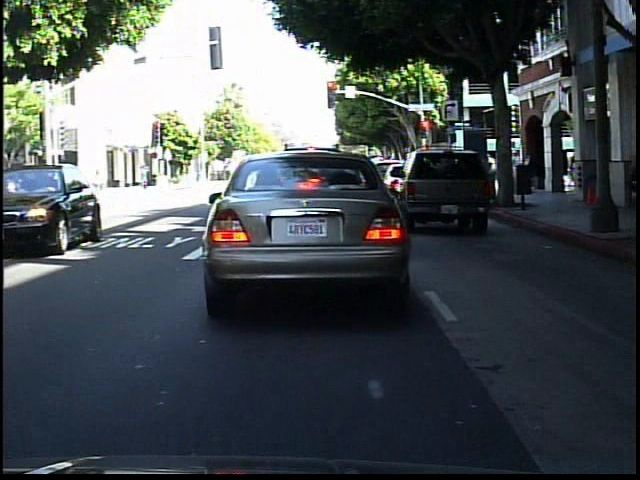person: (590, 144, 612, 217), (619, 141, 639, 220), (64, 161, 80, 200), (35, 168, 50, 206), (52, 163, 65, 206), (138, 162, 155, 192)
